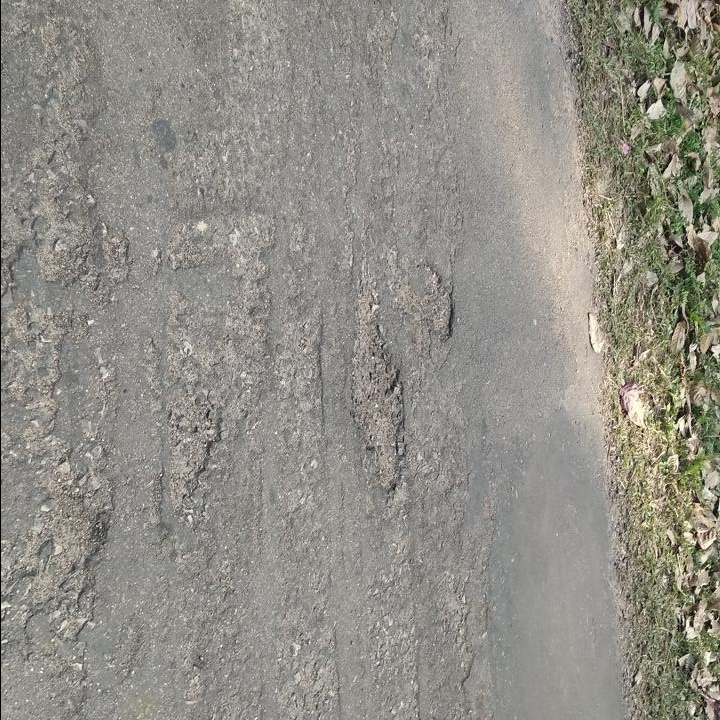pothole: (351, 308, 408, 496), (29, 468, 115, 583), (165, 384, 225, 508), (37, 200, 92, 290), (414, 259, 459, 342)
